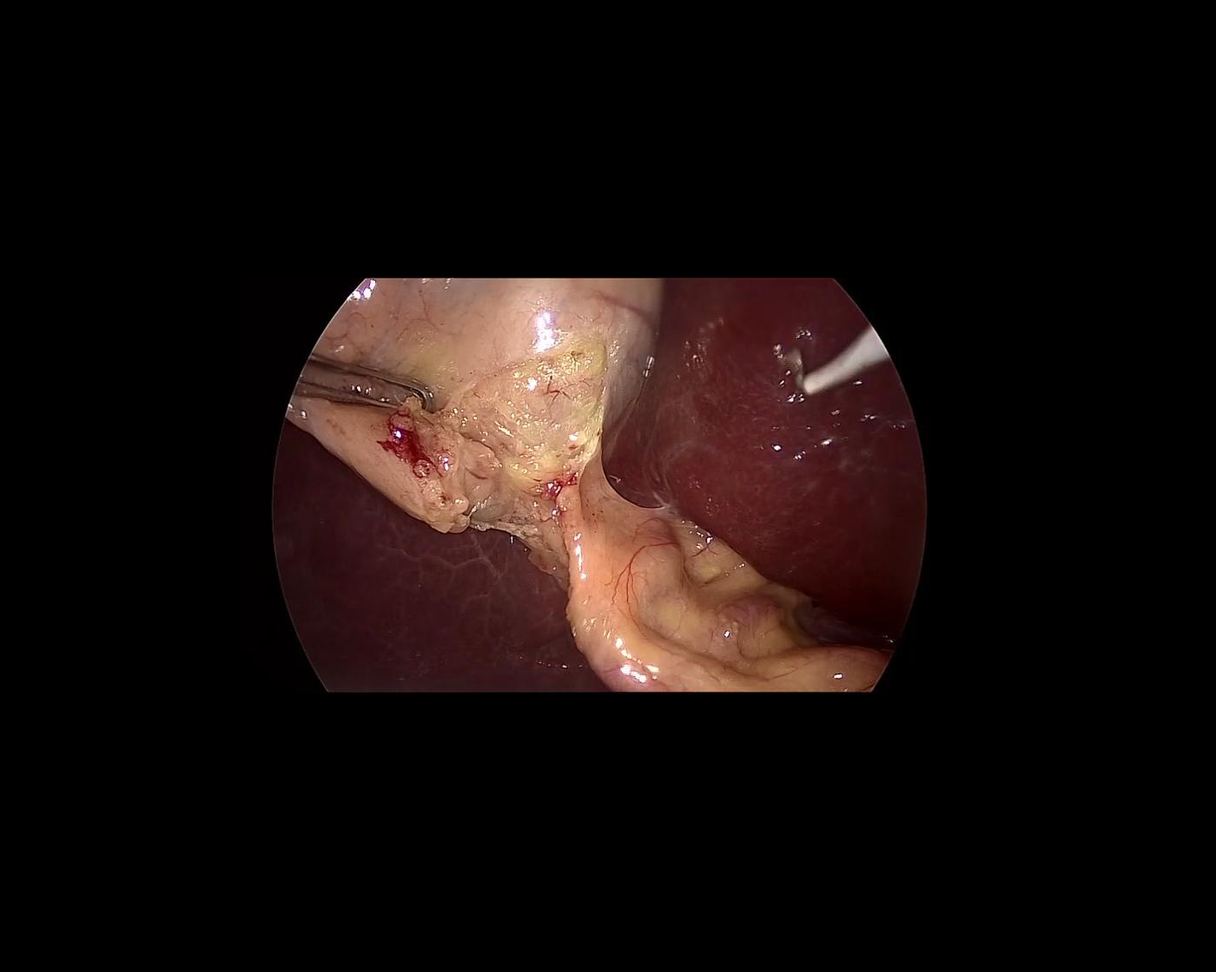Cautery: (782, 321, 894, 401)
Forceps: (294, 356, 437, 424)
Gallbladder: (286, 276, 660, 533)
Liver: (184, 421, 646, 807), (604, 278, 926, 647)
